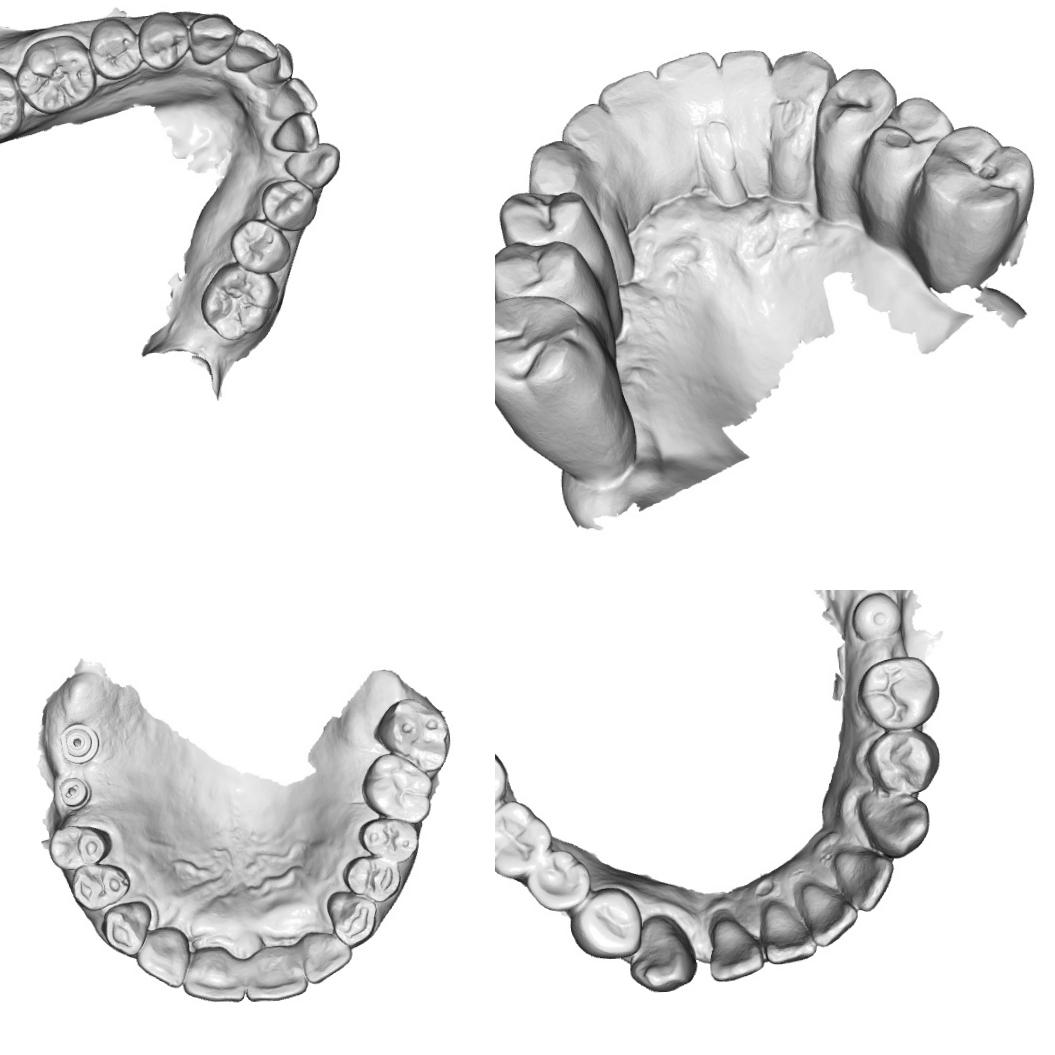canine: (628, 912, 698, 994), (768, 49, 840, 126), (524, 132, 600, 203), (858, 792, 934, 857), (325, 887, 379, 950), (100, 898, 154, 960), (282, 141, 341, 190), (188, 12, 238, 65)
implant: (851, 590, 904, 646), (58, 722, 100, 765)
implant_minus: (56, 775, 92, 810)
incisor: (652, 49, 724, 133), (596, 61, 667, 146), (558, 101, 628, 174), (834, 844, 896, 915), (716, 45, 776, 118), (797, 878, 859, 948), (180, 944, 249, 1006), (706, 912, 766, 983), (242, 942, 308, 1004), (760, 896, 818, 964), (134, 924, 192, 991), (297, 928, 356, 986), (270, 112, 321, 154), (229, 28, 277, 71), (271, 75, 319, 116), (256, 41, 295, 90)
molar: (495, 291, 623, 427), (918, 121, 1036, 232), (198, 258, 281, 342), (15, 33, 98, 115), (369, 696, 451, 776), (358, 748, 434, 827), (495, 799, 553, 880), (0, 64, 25, 145)
premolar: (850, 91, 956, 194), (810, 65, 900, 173), (495, 239, 591, 312), (858, 652, 940, 732), (496, 187, 590, 252), (568, 886, 640, 960), (865, 728, 942, 793), (525, 847, 591, 914), (86, 16, 142, 82), (229, 218, 292, 276), (68, 861, 133, 914), (137, 10, 192, 72), (340, 853, 403, 906), (47, 822, 112, 873), (356, 815, 421, 865), (260, 178, 318, 232)
